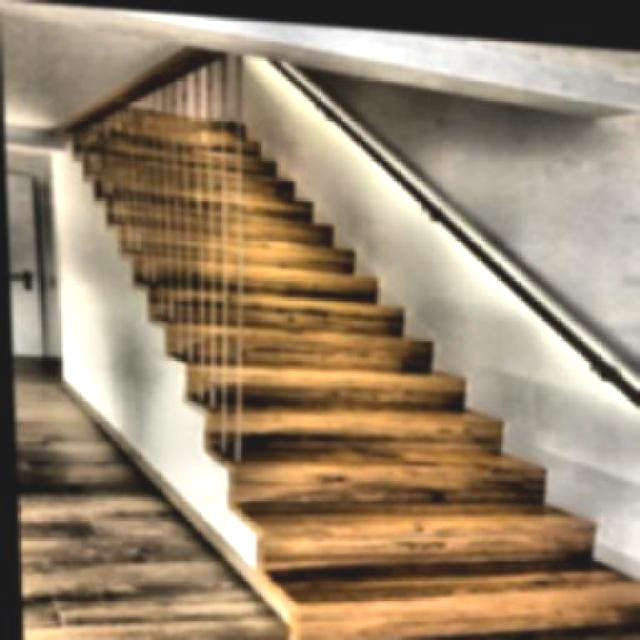stair: (10, 94, 639, 585)
